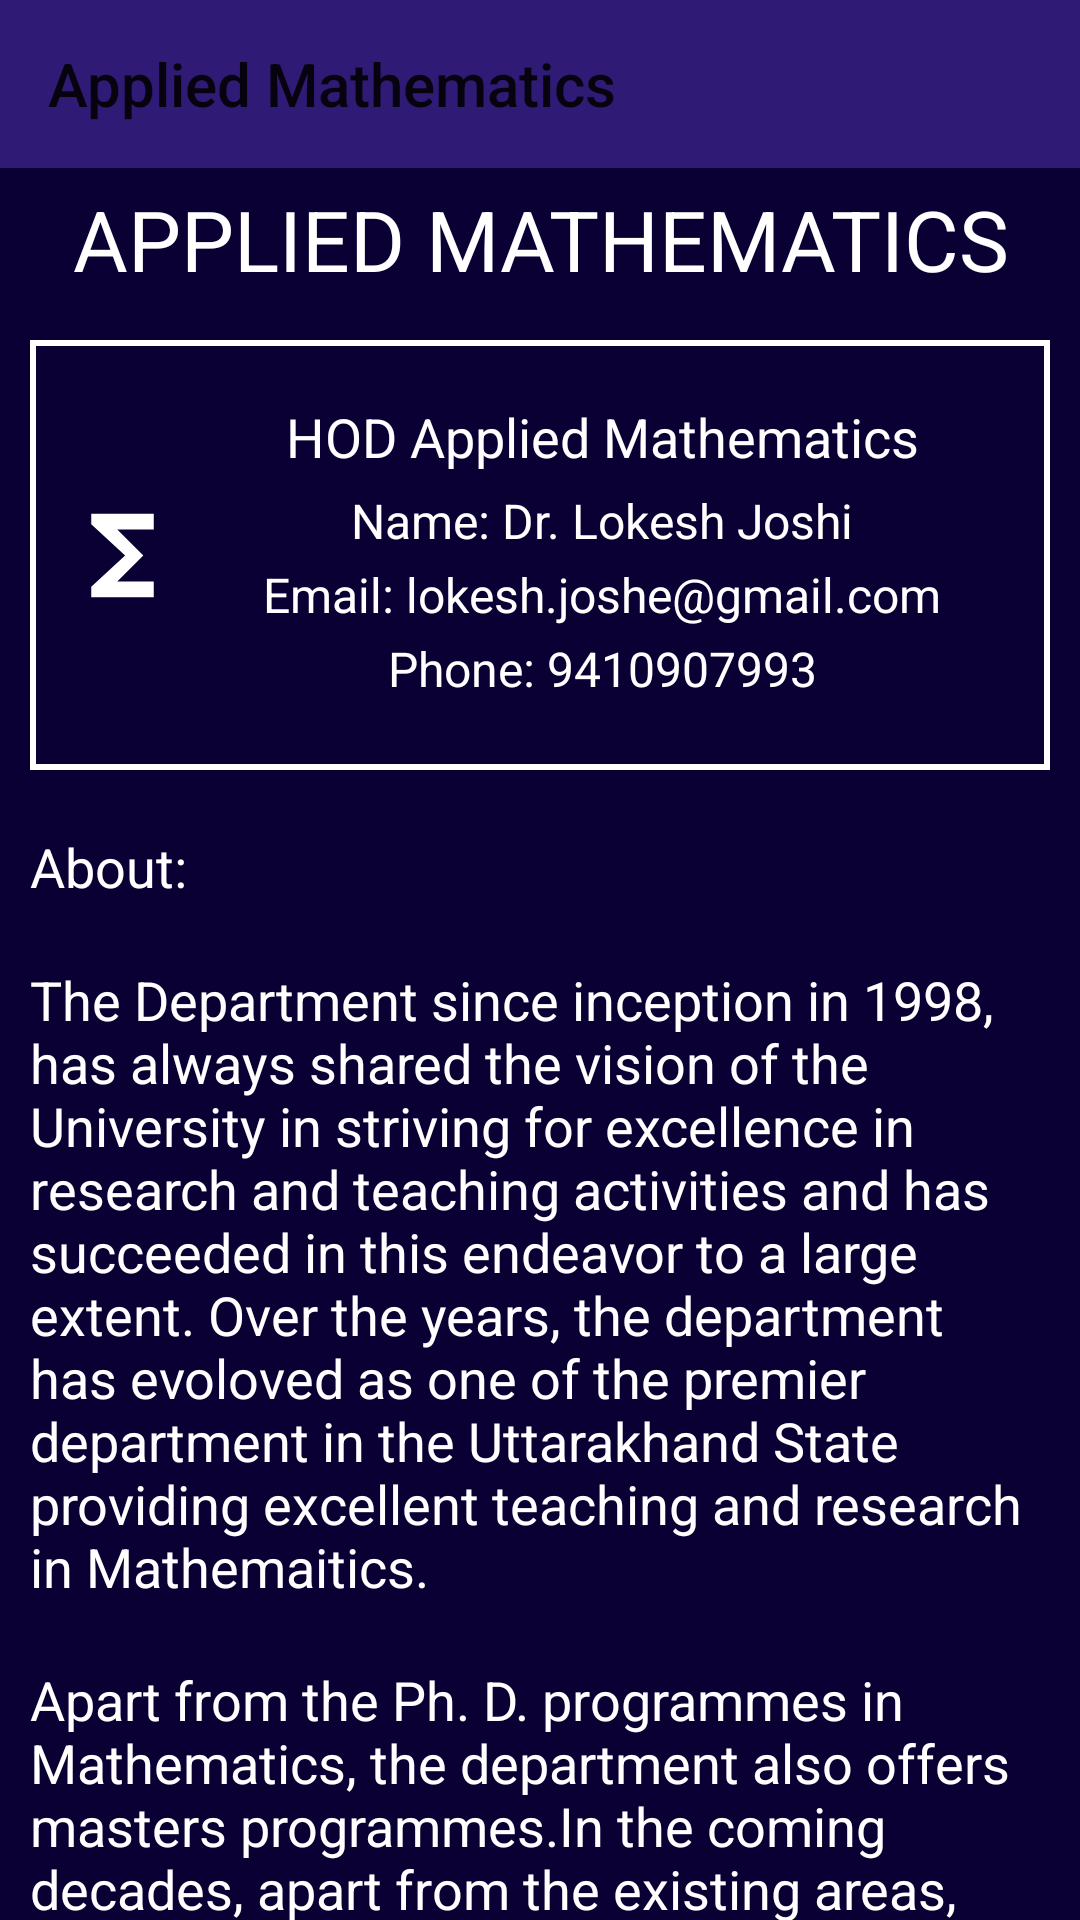

Icon click points for this 1080×1920 phone screenshot, format (x,y):
functions: (122,555)
